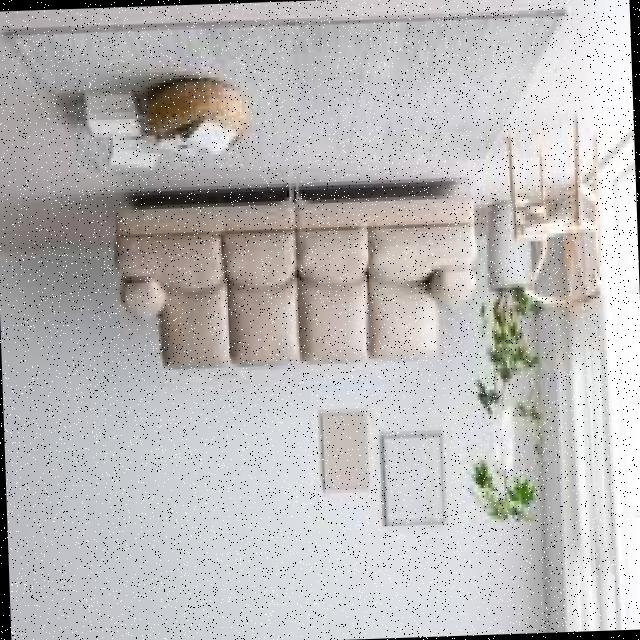Sofa: (79, 161, 495, 395)
